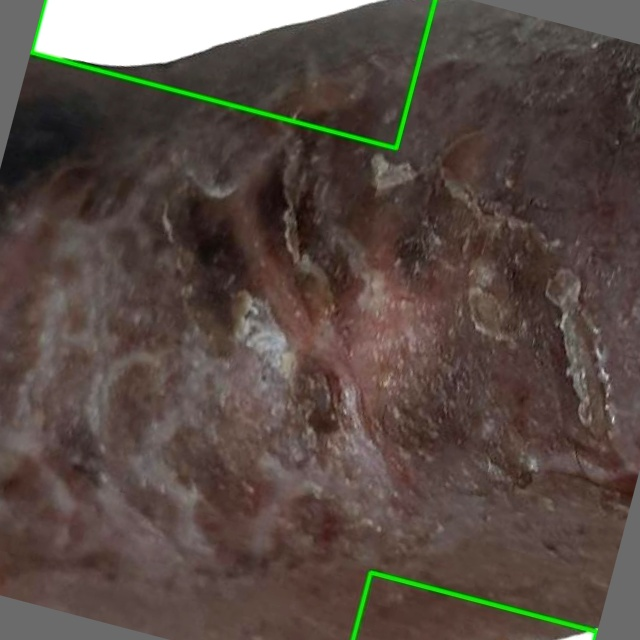Eczema: (31, 0, 435, 148)
